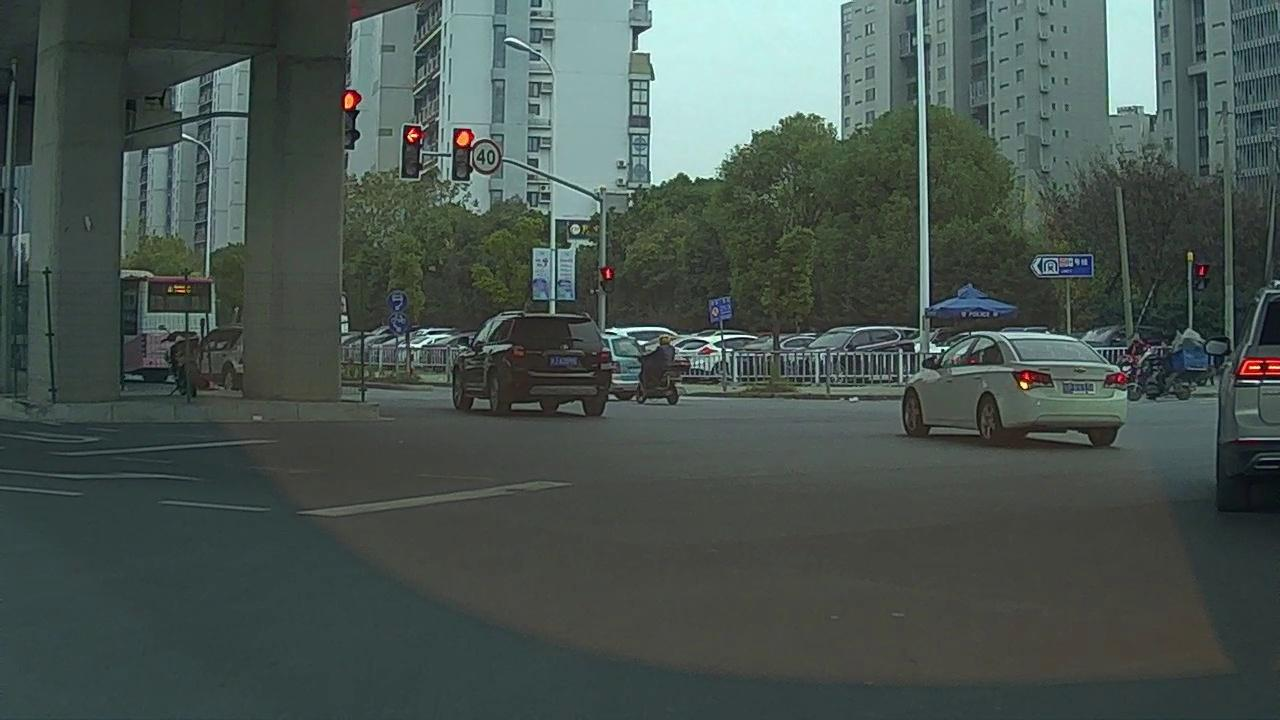traffic_light: (454, 130, 469, 180), (402, 125, 416, 176), (343, 94, 355, 147)
